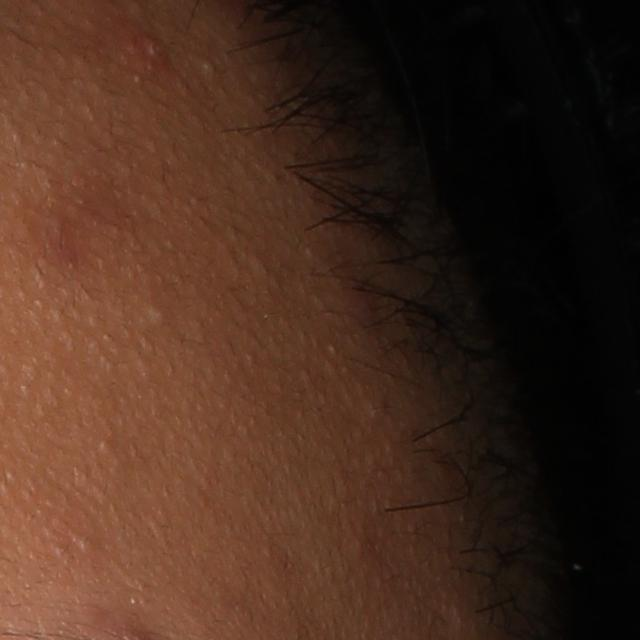comedo: (142, 304, 172, 325)
papule: (136, 30, 173, 70)
